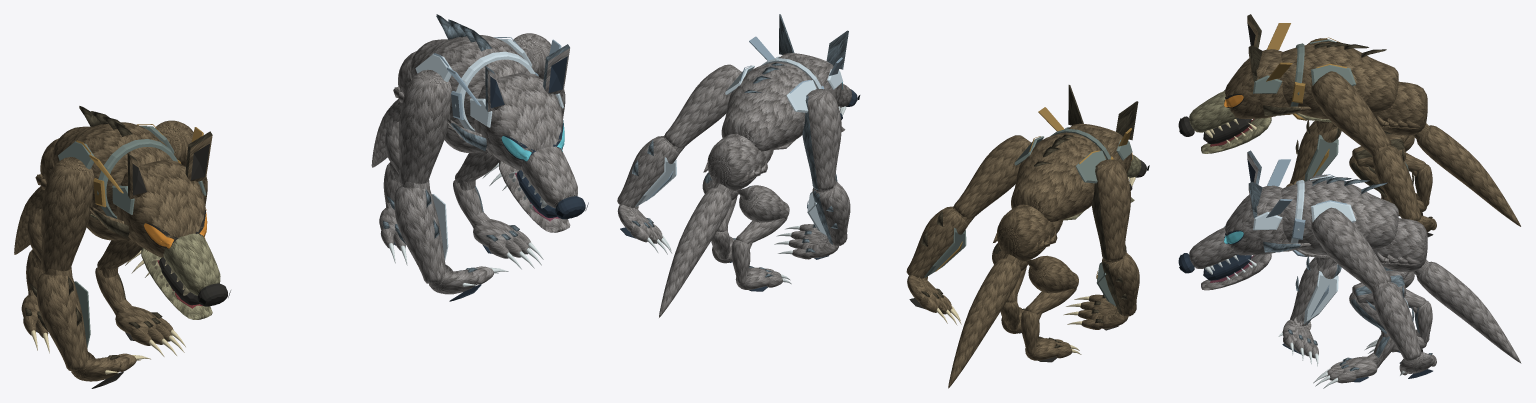
The model's file is wolfos.glb.
3 views of the same model, side by side, from view 1: azimuth 30°, elevation 25°; view 2: azimuth 150°, elevation 25°; view 3: azimuth 270°, elevation 25° (orthographic). The views are drawn at different scales.
Parts seen in each view (by area): view 1: Frost.17.canine cranial planes, Timber.17.canine cranial planes, Timber.13.lean muscle and tendon, Frost.13.lean muscle and tendon, Timber.12.tapered thorax, Frost.12.tapered thorax, Frost.14.lean muscle and tendon, Timber.14.lean muscle and tendon, Timber.17.tapered nasal bridge, Frost.17.tapered nasal bridge, Frost.17.separate lower mandible, Timber.17.separate lower mandible (+26 smaller); view 2: Frost.12.tapered thorax, Timber.12.tapered thorax, Timber.13.lean muscle and tendon, Frost.13.lean muscle and tendon, Frost.06.continuous tail, Timber.06.continuous tail, Timber.19.lean muscle and tendon, Frost.19.lean muscle and tendon, Timber.07.haunch abdominal taper, Frost.07.haunch abdominal taper, Frost.20.lean muscle and tendon, Timber.20.lean muscle and tendon (+22 smaller); view 3: Timber.12.tapered thorax, Frost.12.tapered thorax, Timber.19.lean muscle and tendon, Frost.19.lean muscle and tendon, Timber.06.continuous tail, Frost.06.continuous tail, Timber.17.canine cranial planes, Frost.17.canine cranial planes, Frost.20.lean muscle and tendon, Timber.20.lean muscle and tendon, Timber.07.haunch abdominal taper, Frost.07.haunch abdominal taper (+32 smaller).
Boxes of the visible parts, x1=… form: Frost.17.canine cranial planes: x1=474, y1=72, x2=563, y2=170; Timber.17.canine cranial planes: x1=116, y1=160, x2=205, y2=257; Timber.13.lean muscle and tendon: x1=40, y1=157, x2=94, y2=272; Frost.13.lean muscle and tendon: x1=398, y1=69, x2=451, y2=185; Timber.12.tapered thorax: x1=52, y1=122, x2=172, y2=216; Frost.12.tapered thorax: x1=409, y1=35, x2=530, y2=128; Frost.14.lean muscle and tendon: x1=394, y1=186, x2=446, y2=283; Timber.14.lean muscle and tendon: x1=36, y1=273, x2=89, y2=370; Timber.17.tapered nasal bridge: x1=163, y1=233, x2=220, y2=295; Frost.17.tapered nasal bridge: x1=521, y1=146, x2=577, y2=208; Frost.17.separate lower mandible: x1=499, y1=160, x2=570, y2=232; Timber.17.separate lower mandible: x1=141, y1=247, x2=212, y2=319; Frost.12.tapered thorax: x1=721, y1=59, x2=822, y2=151; Timber.12.tapered thorax: x1=1011, y1=130, x2=1111, y2=221; Timber.13.lean muscle and tendon: x1=1091, y1=159, x2=1130, y2=260; Frost.13.lean muscle and tendon: x1=802, y1=89, x2=841, y2=190; Frost.06.continuous tail: x1=659, y1=187, x2=731, y2=317; Timber.06.continuous tail: x1=948, y1=258, x2=1020, y2=388; Timber.19.lean muscle and tendon: x1=954, y1=135, x2=1031, y2=218; Frost.19.lean muscle and tendon: x1=664, y1=64, x2=741, y2=147; Timber.07.haunch abdominal taper: x1=996, y1=204, x2=1063, y2=261; Frost.07.haunch abdominal taper: x1=707, y1=134, x2=773, y2=191; Frost.20.lean muscle and tendon: x1=617, y1=136, x2=679, y2=207; Timber.20.lean muscle and tendon: x1=906, y1=206, x2=968, y2=278; Timber.12.tapered thorax: x1=1281, y1=41, x2=1398, y2=118; Frost.12.tapered thorax: x1=1281, y1=178, x2=1398, y2=255; Timber.19.lean muscle and tendon: x1=1311, y1=71, x2=1391, y2=153; Frost.19.lean muscle and tendon: x1=1311, y1=207, x2=1391, y2=290; Timber.06.continuous tail: x1=1416, y1=125, x2=1520, y2=226; Frost.06.continuous tail: x1=1416, y1=261, x2=1521, y2=363; Timber.17.canine cranial planes: x1=1225, y1=49, x2=1290, y2=118; Frost.17.canine cranial planes: x1=1225, y1=185, x2=1289, y2=255; Frost.20.lean muscle and tendon: x1=1372, y1=282, x2=1421, y2=361; Timber.20.lean muscle and tendon: x1=1372, y1=146, x2=1421, y2=220; Timber.07.haunch abdominal taper: x1=1373, y1=81, x2=1427, y2=135; Frost.07.haunch abdominal taper: x1=1373, y1=218, x2=1427, y2=271.
Bounding box in the file's own units: 146 × 62.52 × 95.63.
20 materials, 6 textured.
